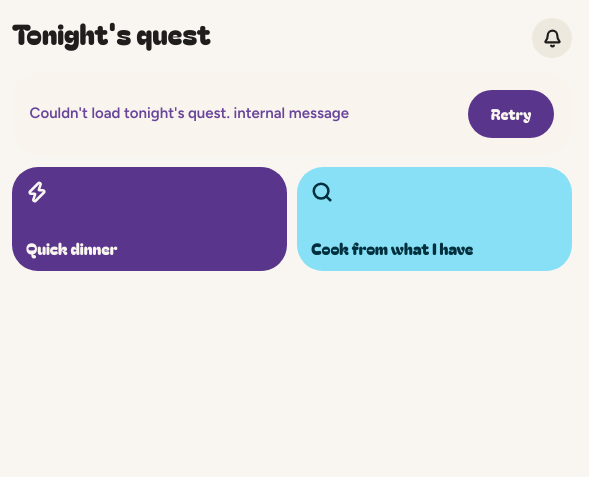
Scenario: / Home › error: banner with Retry
Check: the message shows "Couldn't load tonight's quest. internal message", box [12,72,572,155]
Click the button "Retry" at coordinates (511, 114), box [468,90,554,138]
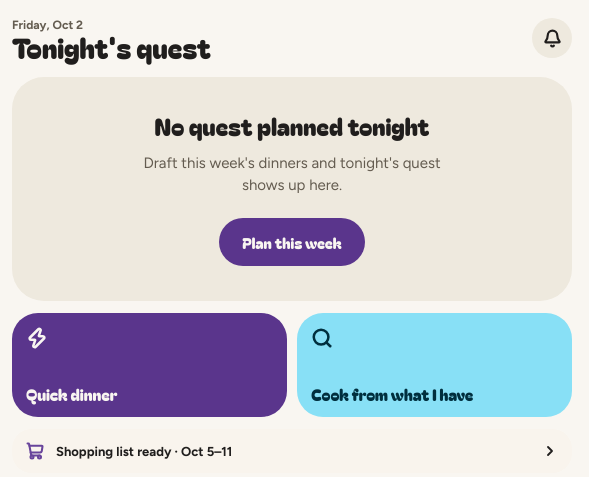
Check: the message "Couldn't load tonight's quest. internal message Retry" is gone
